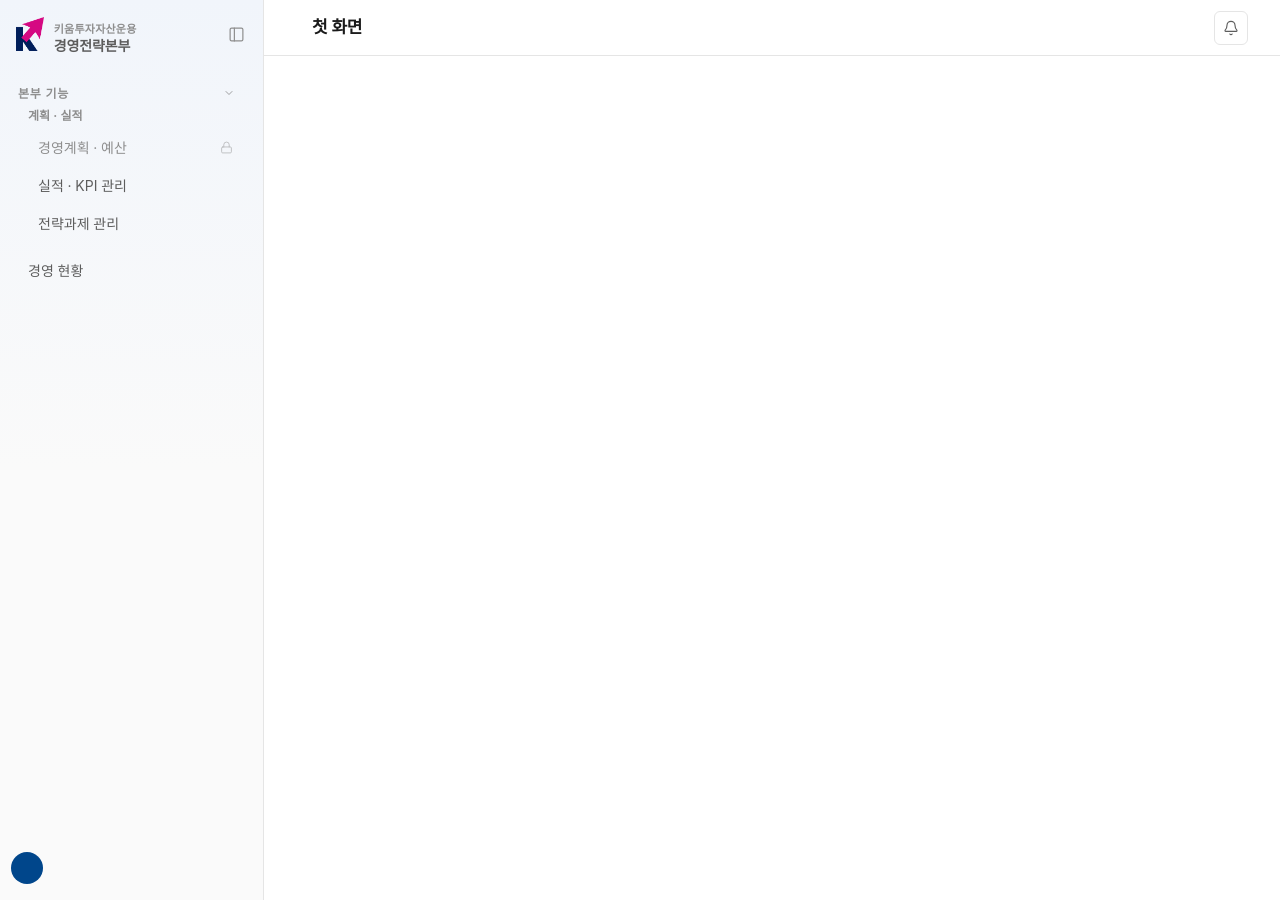
Test: 기능 목록 › 무리 이름을 누르면 무리가 접힌다
The width and height of the screenshot is (1280, 900).
Click the button "본부 기능": click(126, 92) [10,84,243,101]
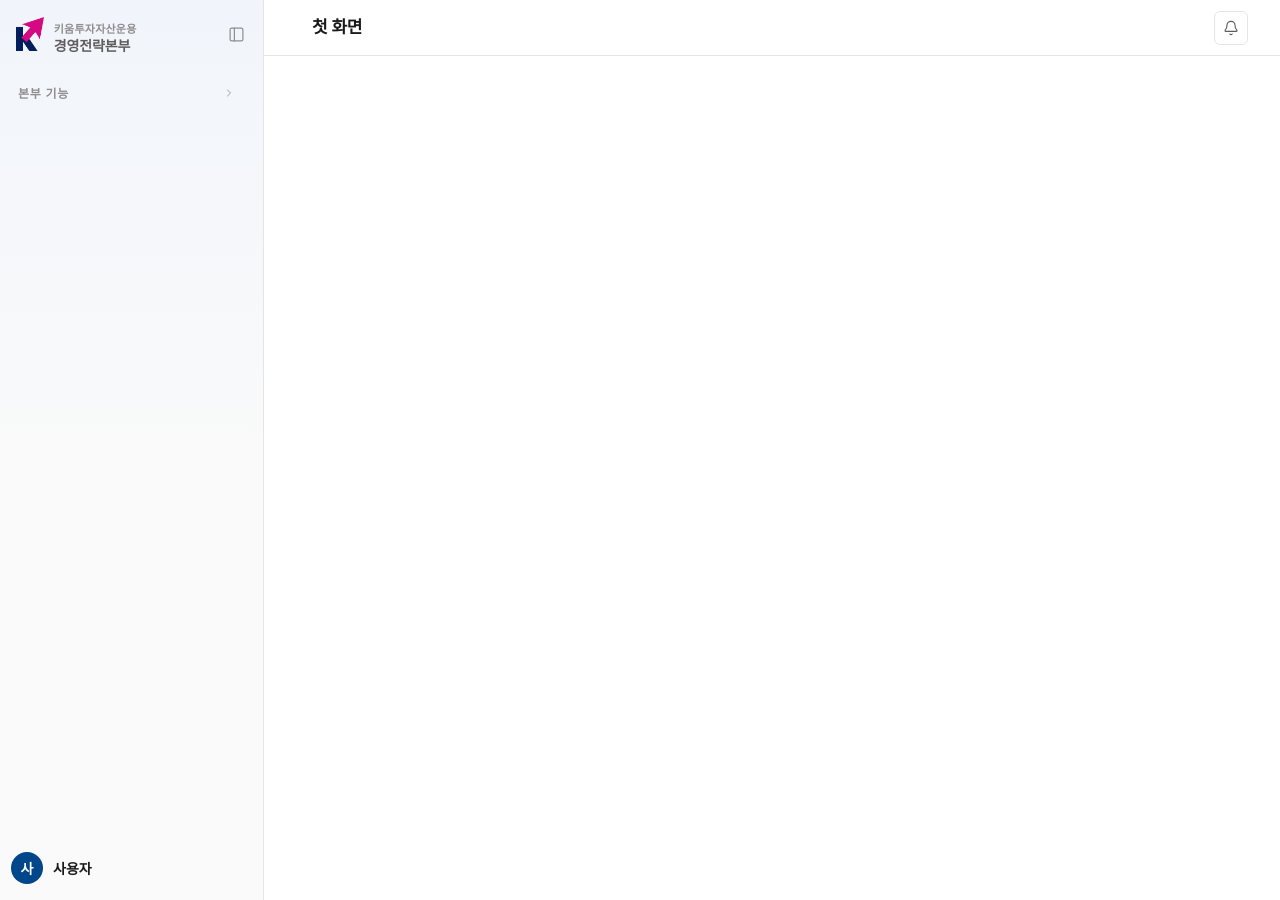
Check: the button "본부 기능" is collapsed, box [10,84,243,101]
